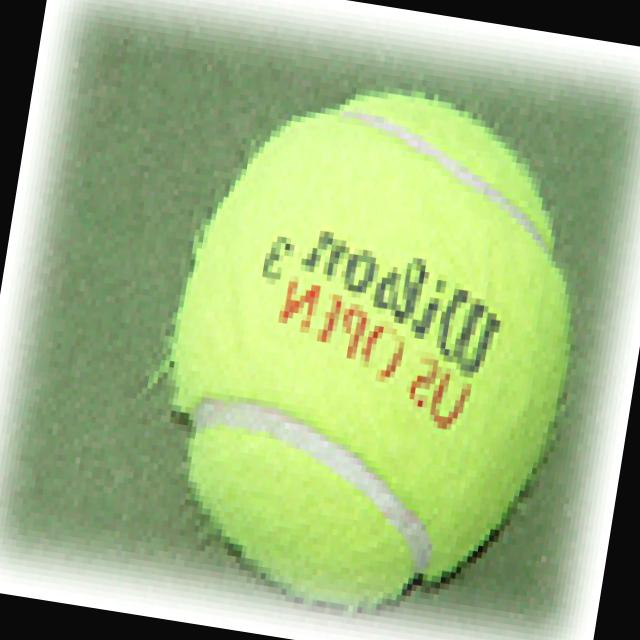Tennis Ball: (163, 88, 575, 619)
